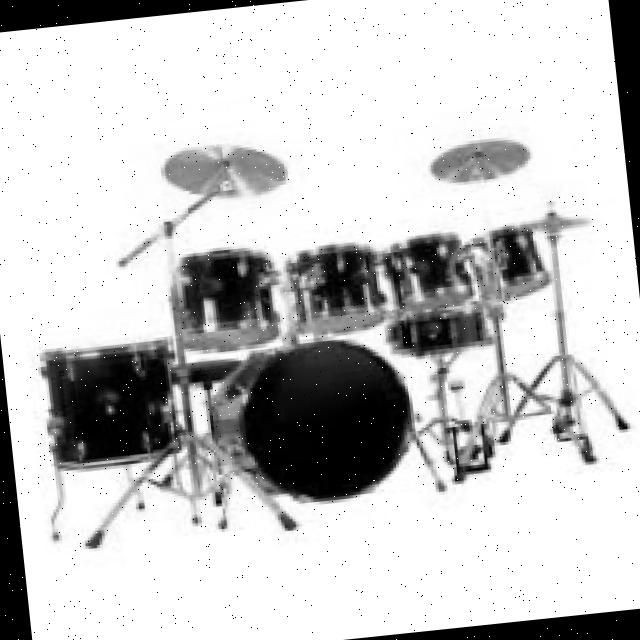drums: (13, 100, 636, 554)
